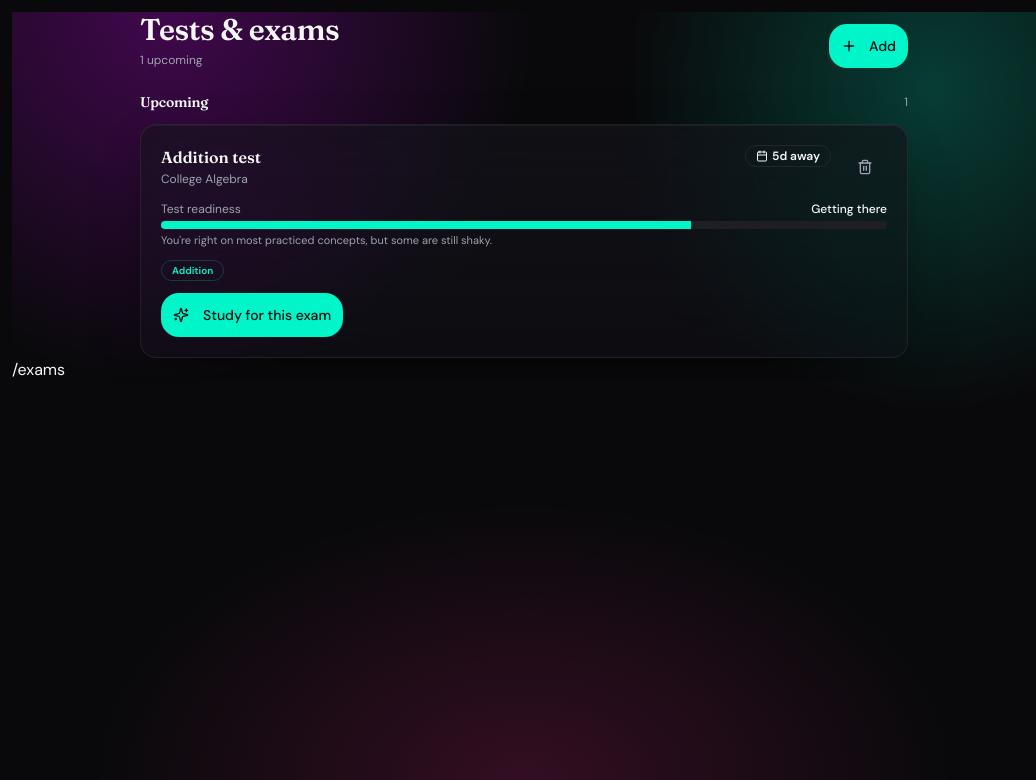
real exam actions › starts study with both the selected class and exam boundary
Click the button "Study for this exam" at (252, 315), box [161, 293, 343, 337]
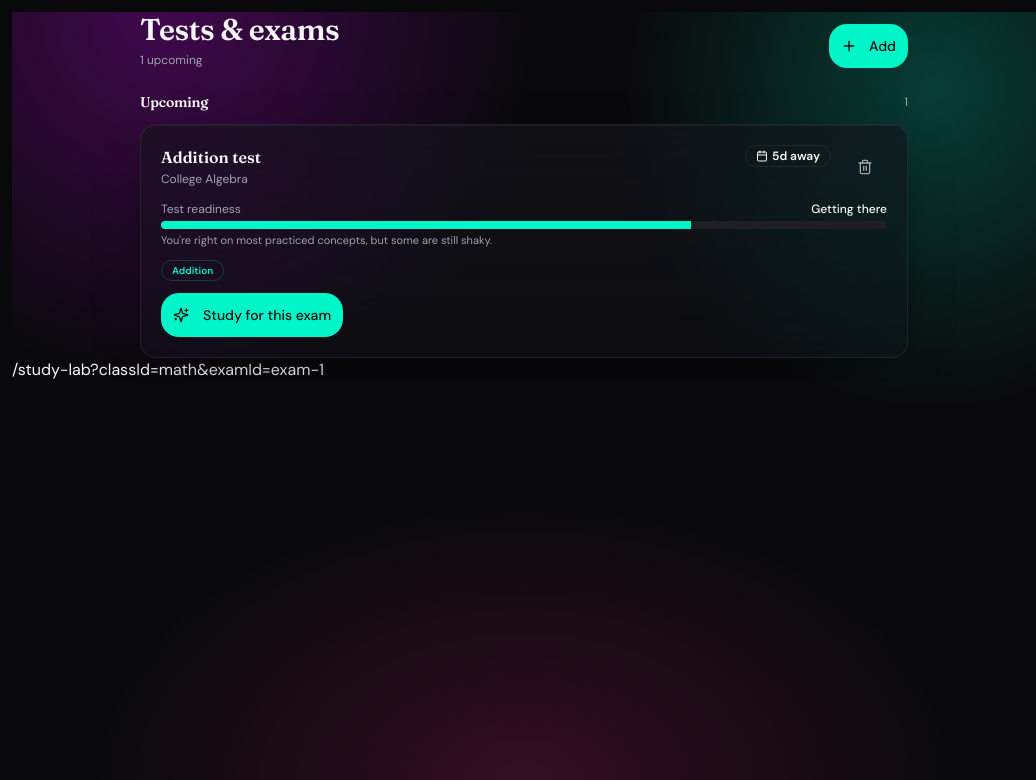
Now the text with test id "location" reads "/study-lab?classId=math&examId=exam-1", box [12, 359, 324, 380]
